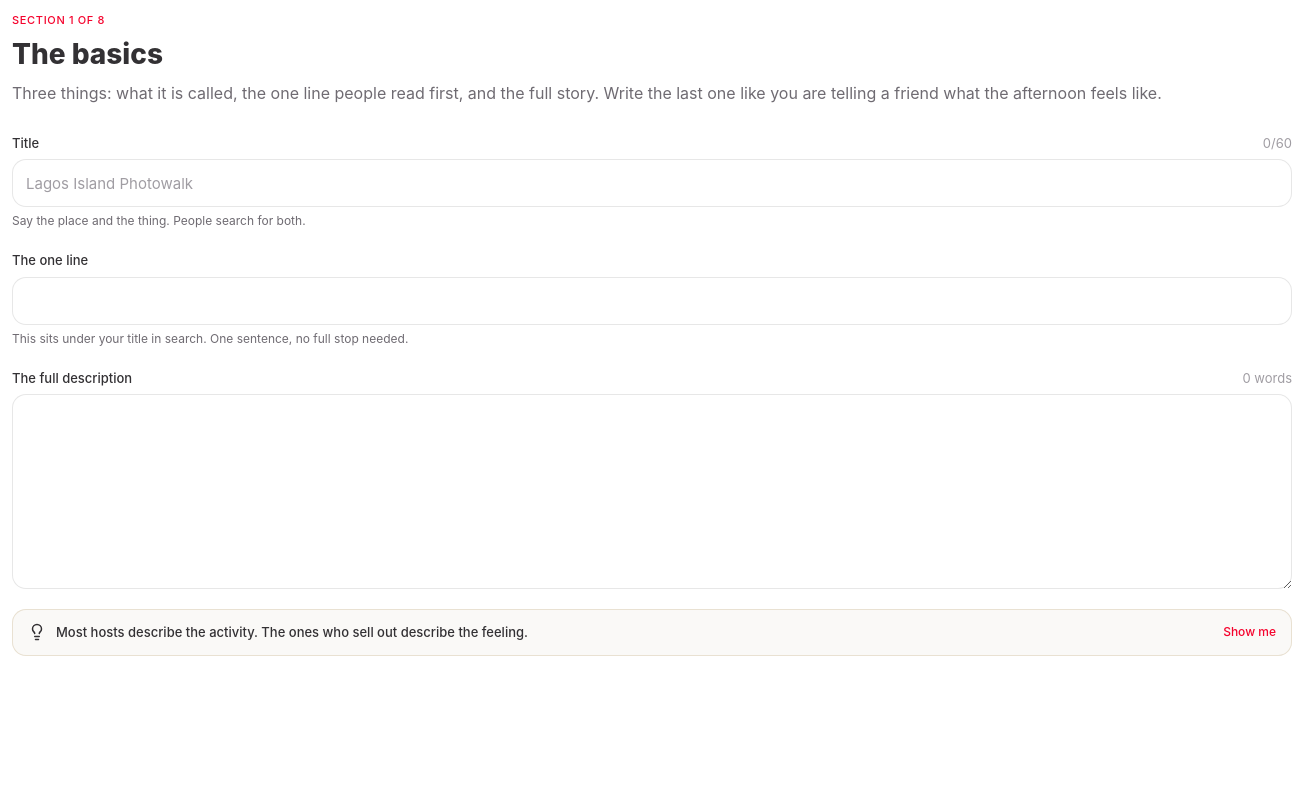
the basics › counts words and characters
Type "one two three" into the text box labelled "The full description 0 words" at (652, 491), box [12,394,1292,589]
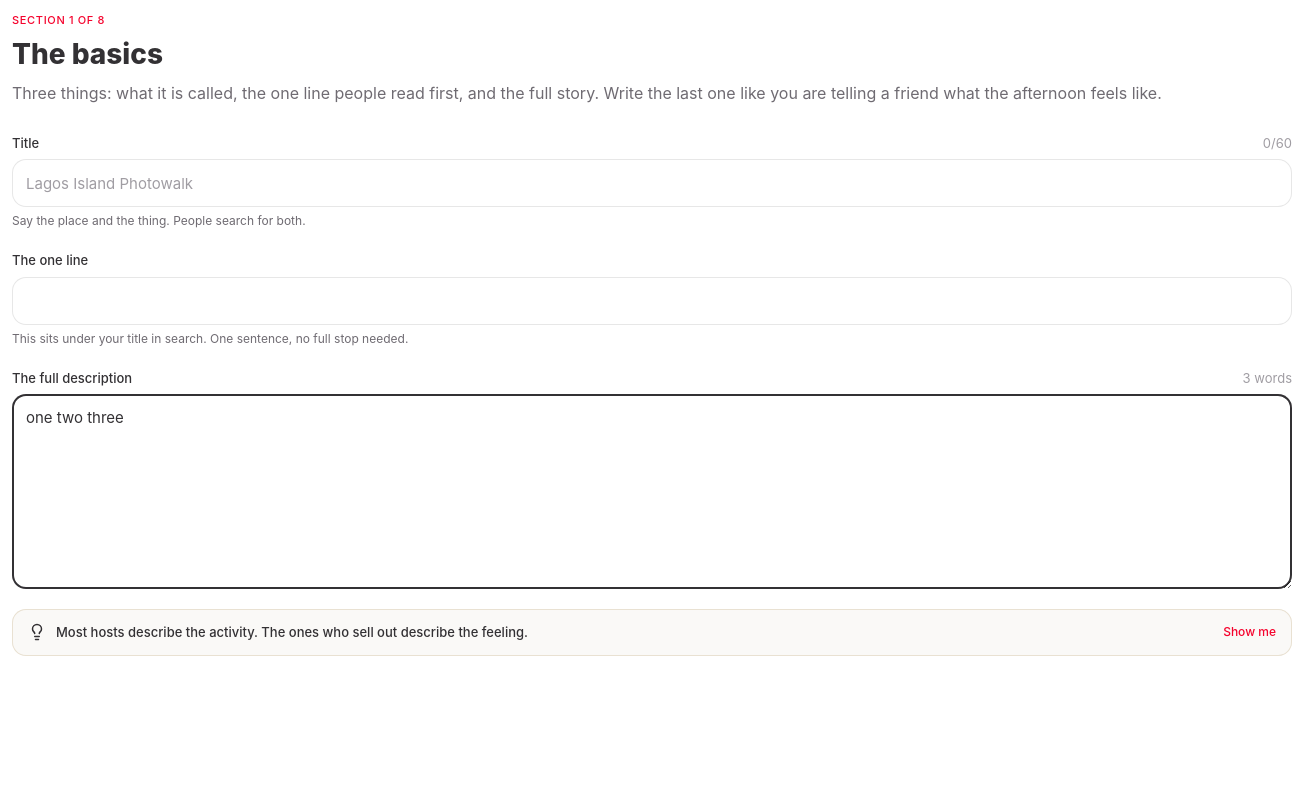
Expected: the text "3 words" is shown, [1243,368,1292,388]
